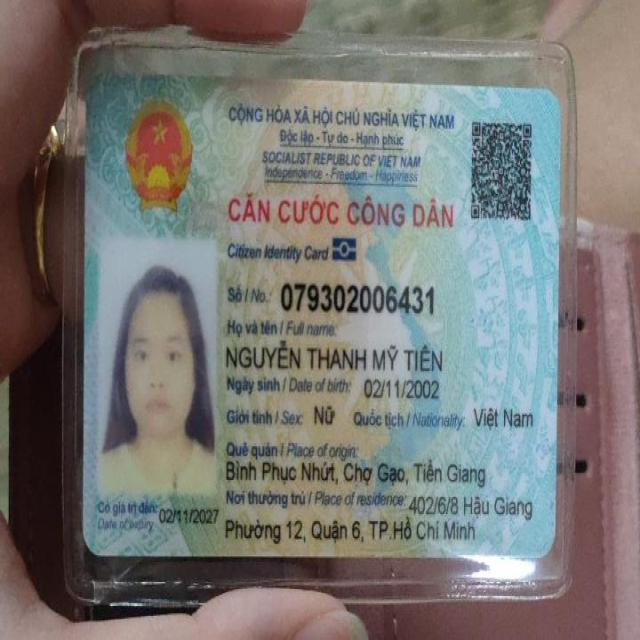bottom_left: (64, 508, 124, 572)
bottom_right: (526, 514, 572, 578)
image_person: (102, 246, 225, 495)
top_left: (68, 59, 120, 108)
top_right: (526, 70, 580, 130)
